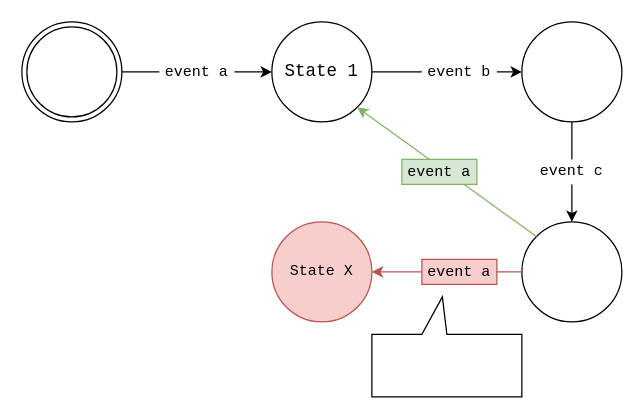
Some shapes in this 644 by 419 pixel diagram are drawn without their labels. Each missing label, with the centre of its shape:
Not Allowed: the point at 446,346
State 0: the point at 71,71
State 2: the point at 571,71
State 3: the point at 571,271
